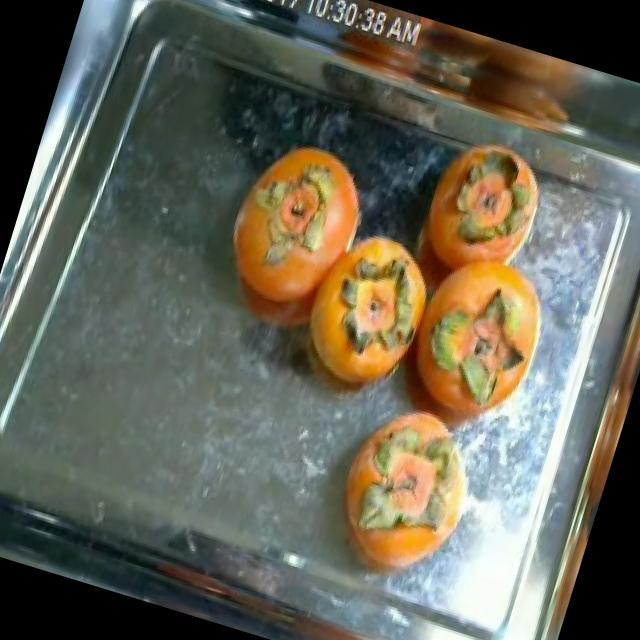Fruit: (208, 113, 390, 307), (432, 125, 550, 272)
